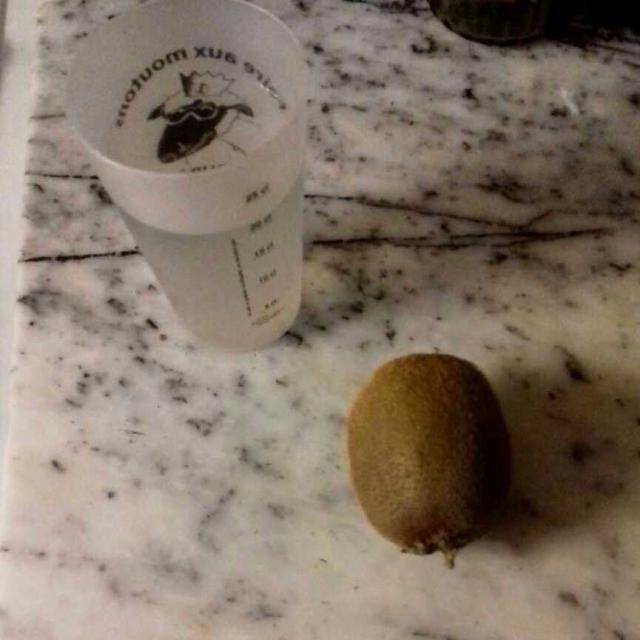kiwi: (347, 356, 511, 554)
water: (102, 149, 322, 373)
